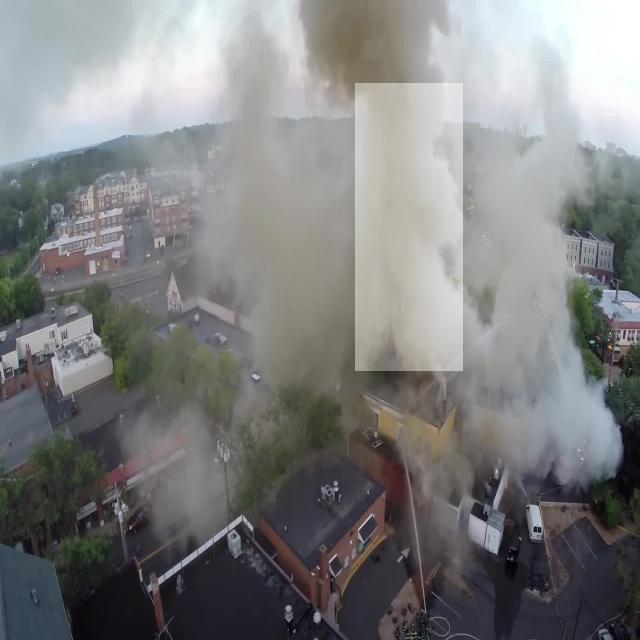Smoke: (355, 83, 463, 371)
